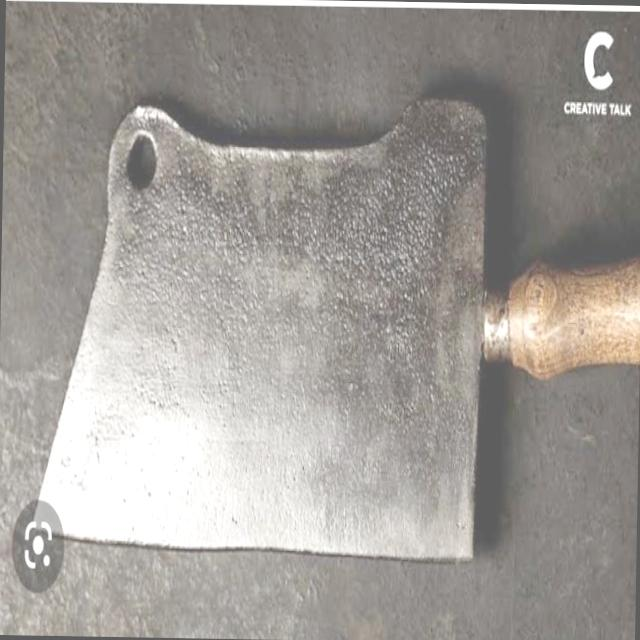knife: (28, 89, 640, 573)
